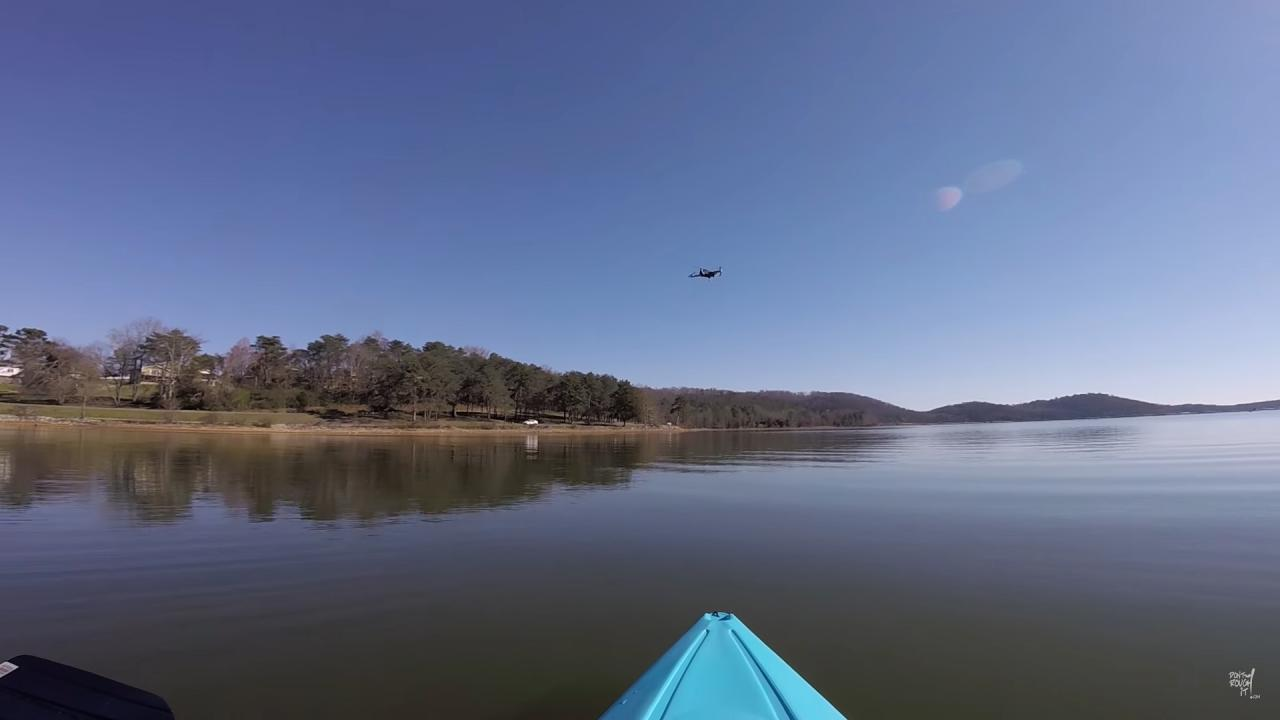Drone: (676, 255, 736, 293)
